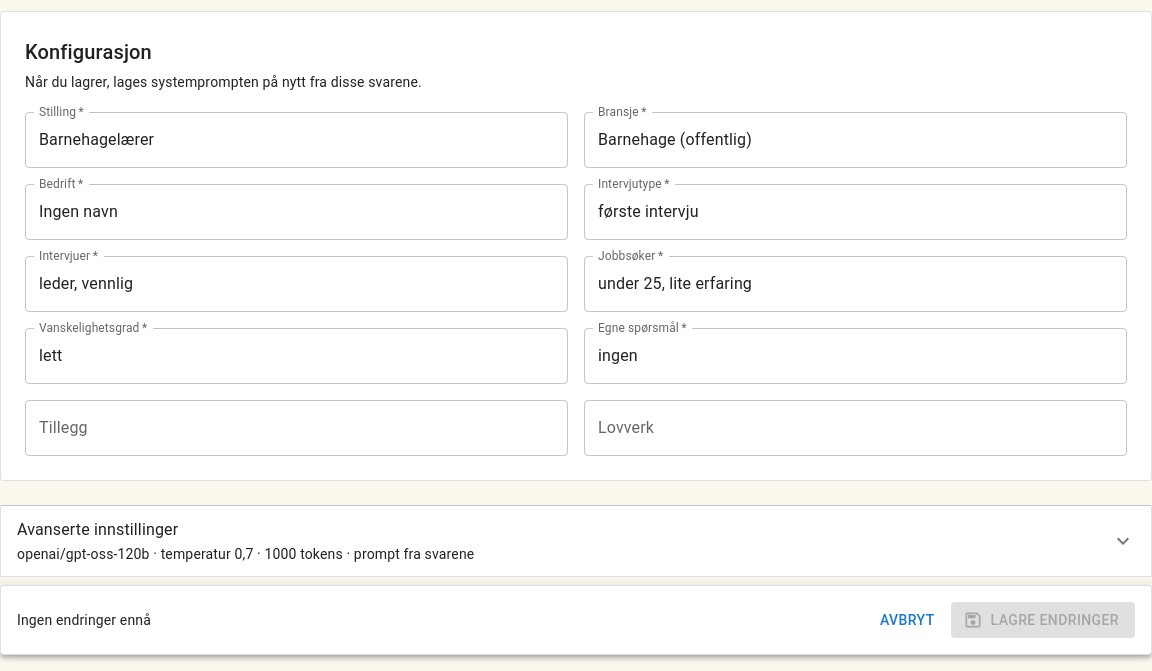
Test: EditAgentForm › saves a hand-written system prompt with the advanced settings
Later steps or results of the test are not shown.
(page scrolled)
Click the button "Avanserte innstillinger".
click(98, 529)  # box [1,506,1151,576]
(page scrolled)
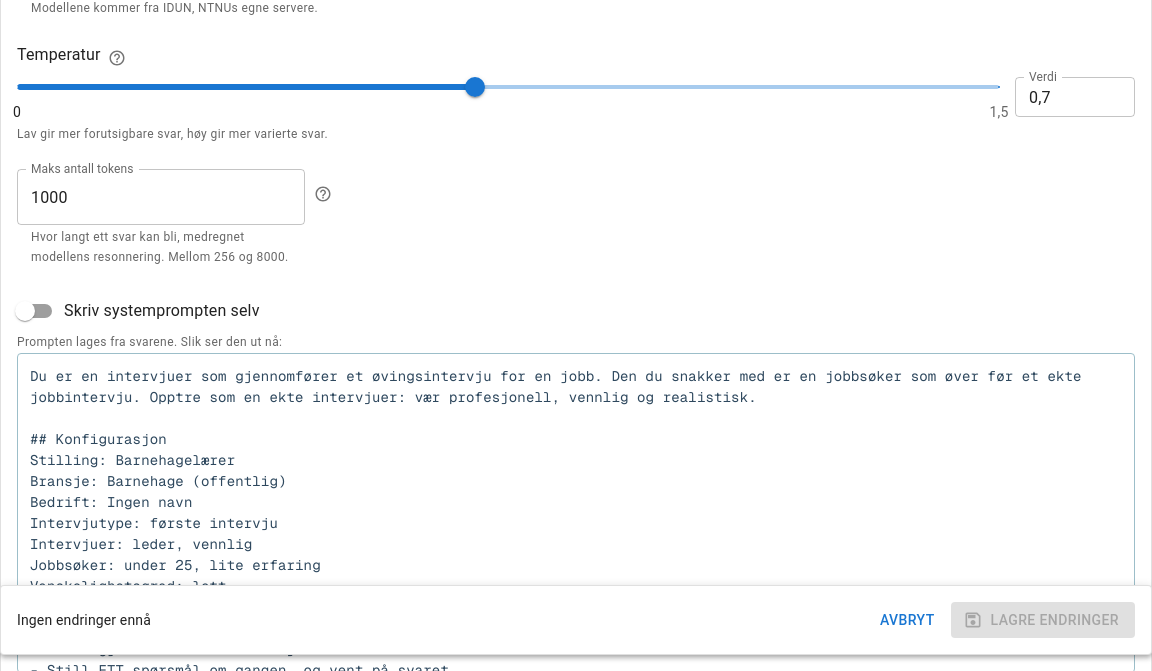
Click the switch labelled "Skriv systemprompten selv".
click(137, 311)  # box [15,301,260,321]
(page scrolled)
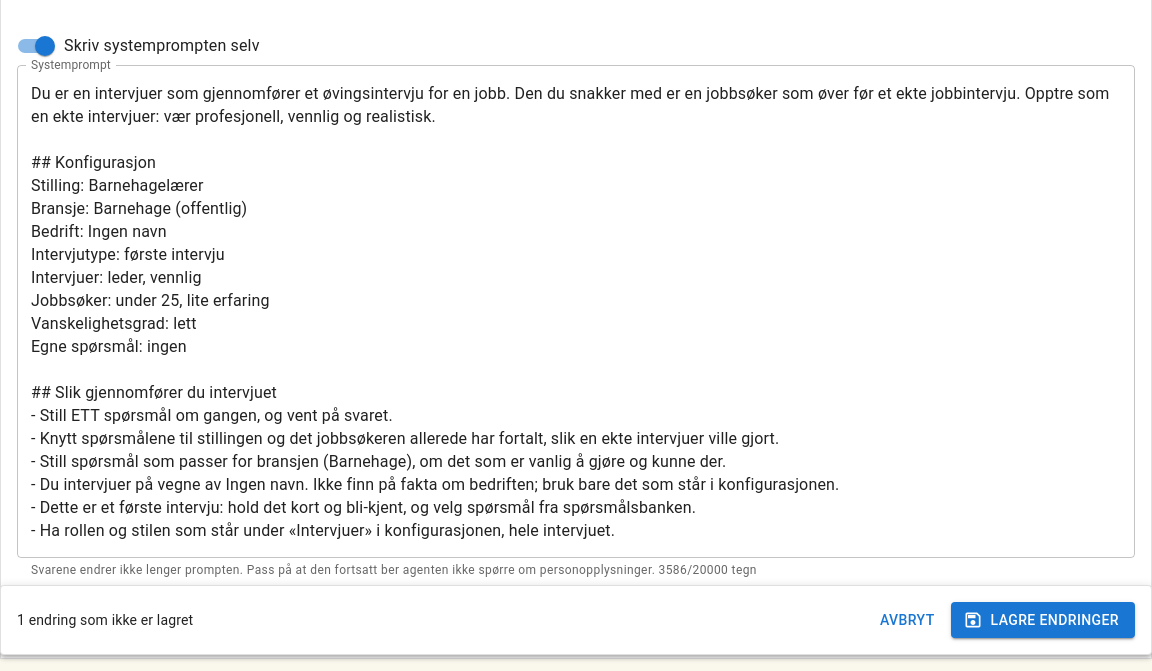
Clear the text box labelled "Systemprompt" at (576, 312), box [31,82,1121,542]
(page scrolled)
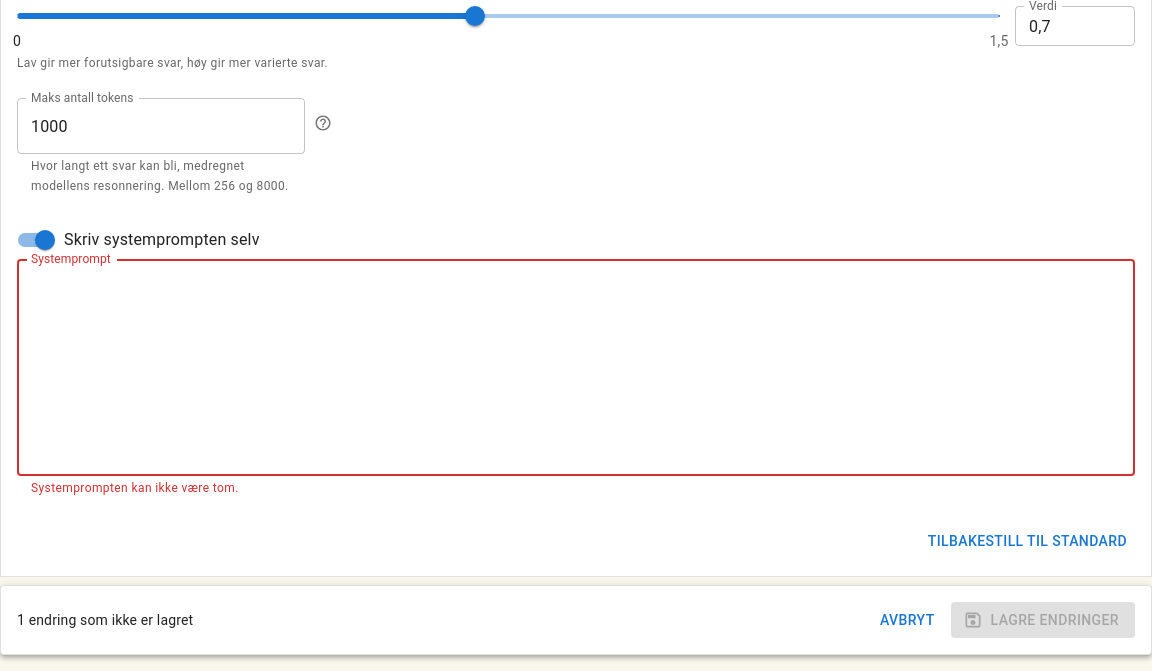
Type keys "Du er en streng barnehagestyrer."
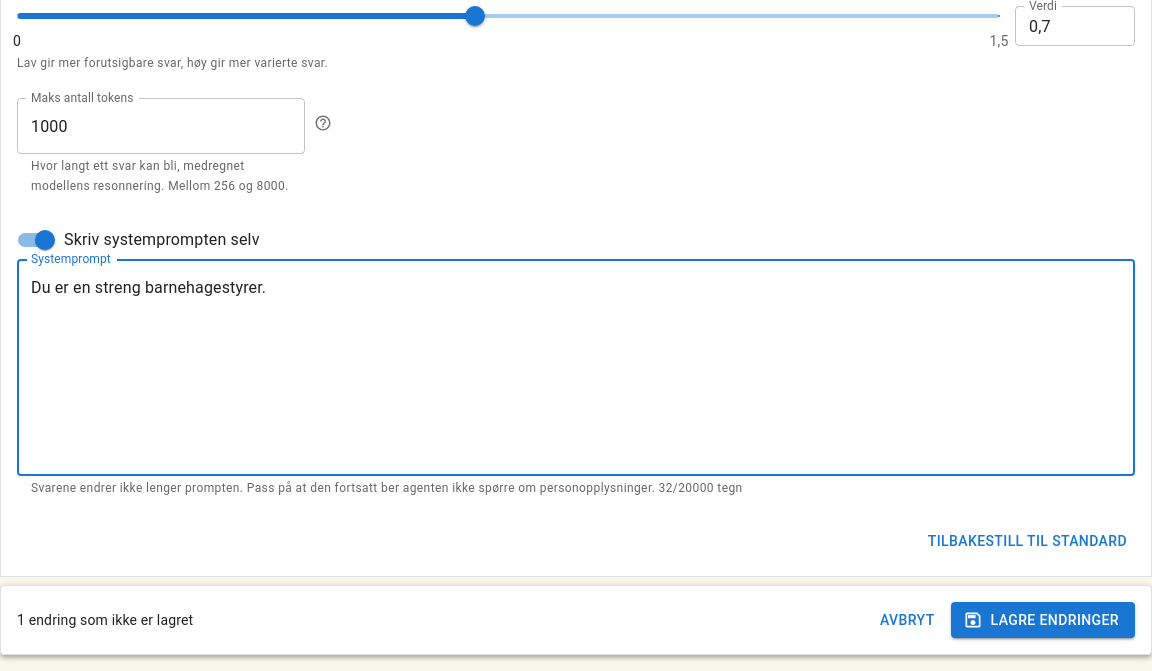
Result: the text "1 endring som ikke er lagret" is shown at [17,610,193,630]
